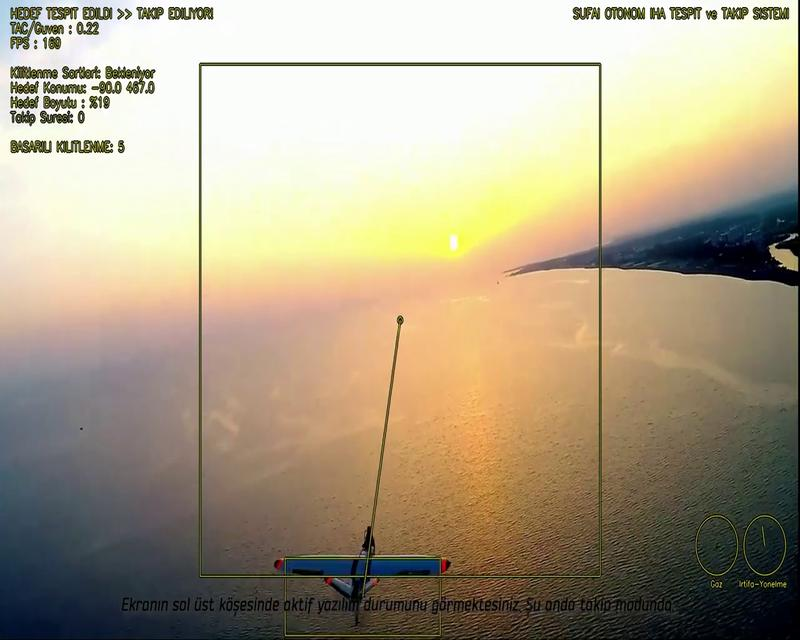UAV: (274, 526, 451, 602)
